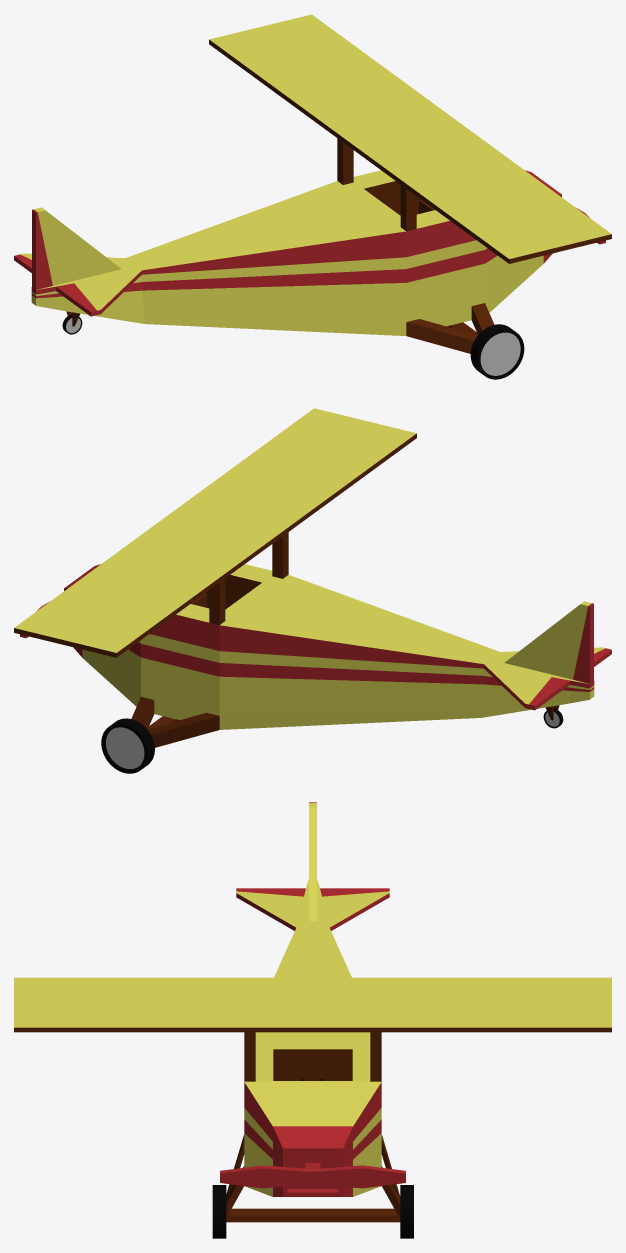
Rendered from NedoCessna.fbx.
The picture shows the model from 3 angles, top to bottom: view 1: azimuth 30°, elevation 25°; view 2: azimuth 150°, elevation 25°; view 3: azimuth 270°, elevation 25°; orthographic projection.
Parts seen in each view (by area): view 1: Корпус, КолесоПр, КрылоЛ, КрылоПр, Хвост, БоковойХвостПр; view 2: Корпус, КолесоЛ, КрылоЛ, КрылоПр, Хвост, БоковойХвостЛ; view 3: Корпус, Винт, КрылоЛ, КрылоПр, КолесоПр, КолесоЛ.
Boxes of the visible parts, left/top/right/bottom form: Корпус: left=20, top=14, right=611, bottom=353; КолесоПр: left=470, top=324, right=524, bottom=379; КрылоЛ: left=251, top=65, right=347, bottom=128; КрылоПр: left=393, top=169, right=489, bottom=232; Хвост: left=32, top=209, right=52, bottom=289; БоковойХвостПр: left=56, top=283, right=97, bottom=316; Корпус: left=14, top=408, right=605, bottom=747; КолесоЛ: left=101, top=718, right=154, bottom=773; КрылоЛ: left=136, top=563, right=232, bottom=626; КрылоПр: left=278, top=459, right=374, bottom=522; Хвост: left=573, top=603, right=593, bottom=683; БоковойХвостЛ: left=528, top=677, right=569, bottom=710; Корпус: left=14, top=803, right=611, bottom=1222; Винт: left=220, top=1165, right=405, bottom=1188; КрылоЛ: left=381, top=977, right=527, bottom=988; КрылоПр: left=98, top=977, right=244, bottom=988; КолесоПр: left=212, top=1185, right=226, bottom=1238; КолесоЛ: left=400, top=1185, right=413, bottom=1238.
Bounding box in the file's own units: 756 × 320 × 748.
